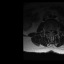CCS_stenosis: (50, 29, 51, 35)
LFS_stenosis: (53, 28, 55, 32)
LLS_stenosis: (51, 29, 53, 34)
RFS_stenosis: (47, 28, 48, 33)
RLS_stenosis: (48, 29, 50, 34)
